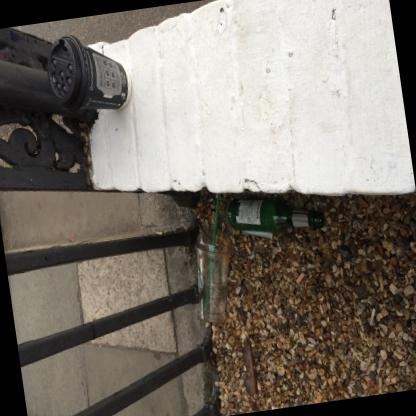Paper: (79, 41, 131, 108), (378, 269, 384, 290), (295, 271, 305, 283), (369, 307, 375, 325), (245, 241, 251, 253), (410, 244, 416, 252), (211, 210, 215, 221), (215, 233, 219, 242), (154, 230, 162, 232)
Plastic: (228, 197, 324, 233), (46, 34, 88, 110), (194, 241, 231, 321), (206, 192, 219, 305), (194, 226, 231, 257)
